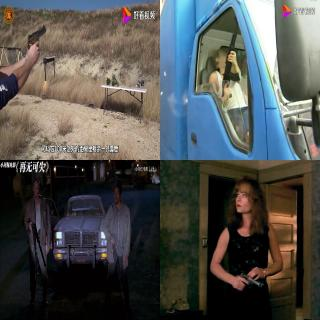gun: (217, 15, 246, 104), (26, 21, 48, 60), (232, 268, 266, 293), (28, 218, 41, 278)
